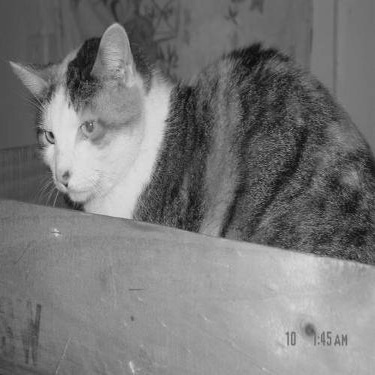cat: (8, 18, 373, 265)
